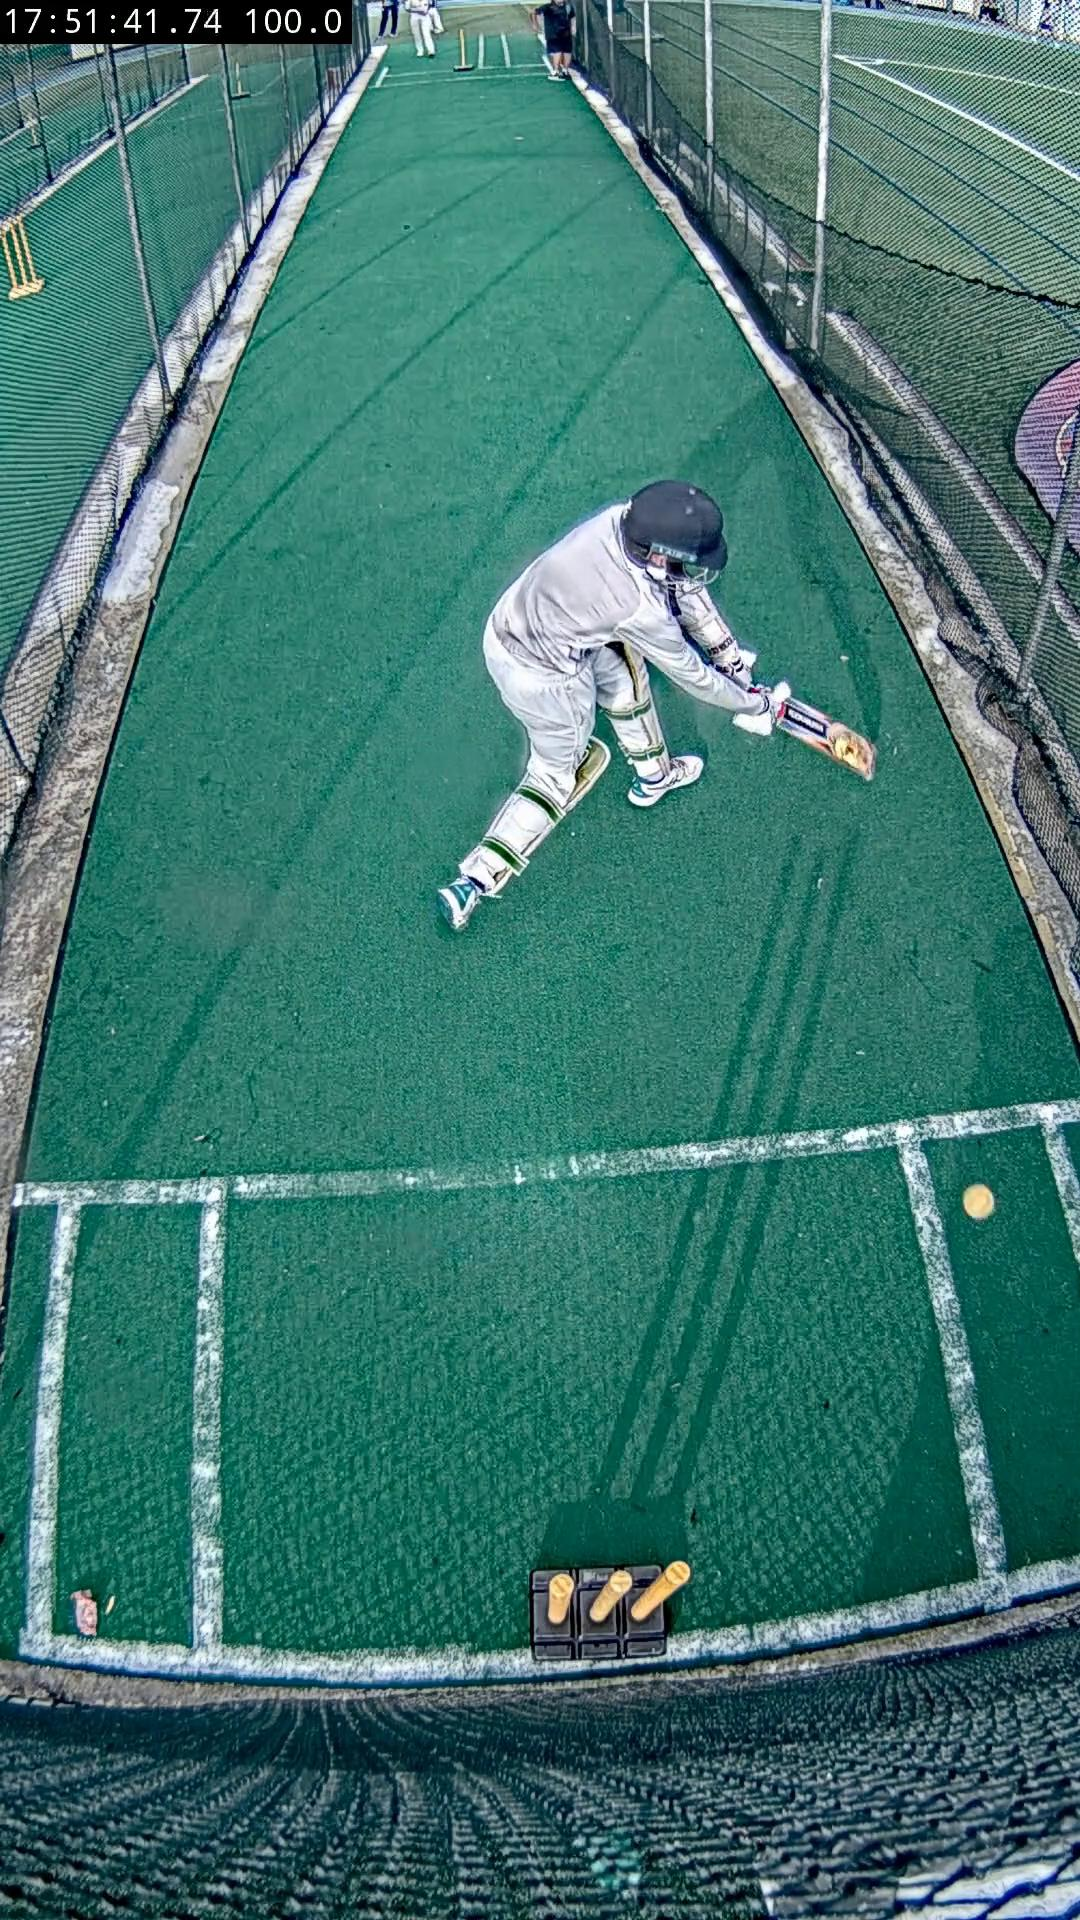ball: (964, 1185, 994, 1222)
bat: (777, 698, 877, 781)
gloves: (732, 683, 791, 735), (708, 645, 757, 680)
helmet: (622, 480, 728, 585)
pads: (555, 738, 612, 819)
stumps: (529, 1560, 690, 1665)
